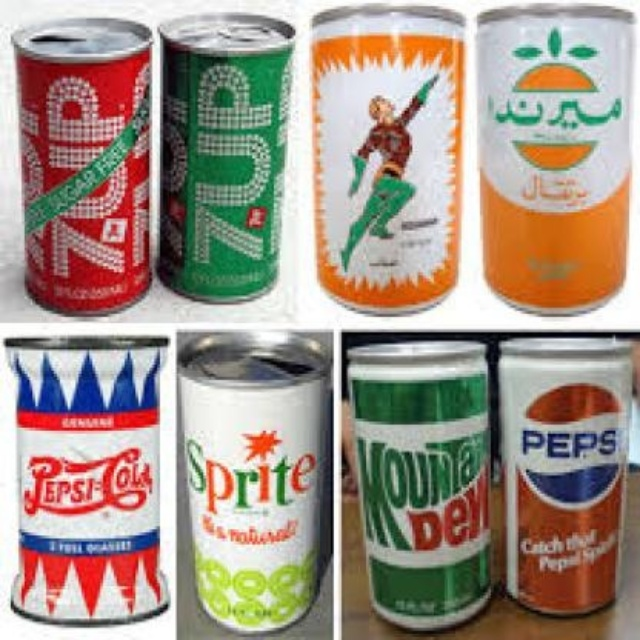trash: (478, 5, 632, 312), (312, 5, 463, 312), (6, 338, 168, 623), (178, 334, 323, 631), (12, 18, 151, 314), (348, 342, 489, 629), (158, 14, 294, 302), (500, 338, 629, 614)
